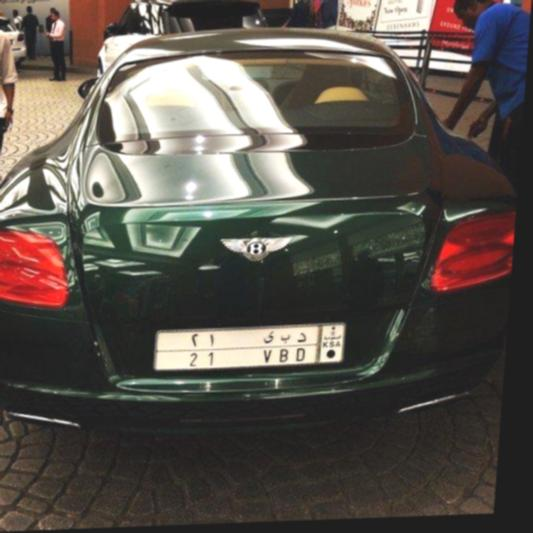License_Plate: (142, 314, 355, 380)
